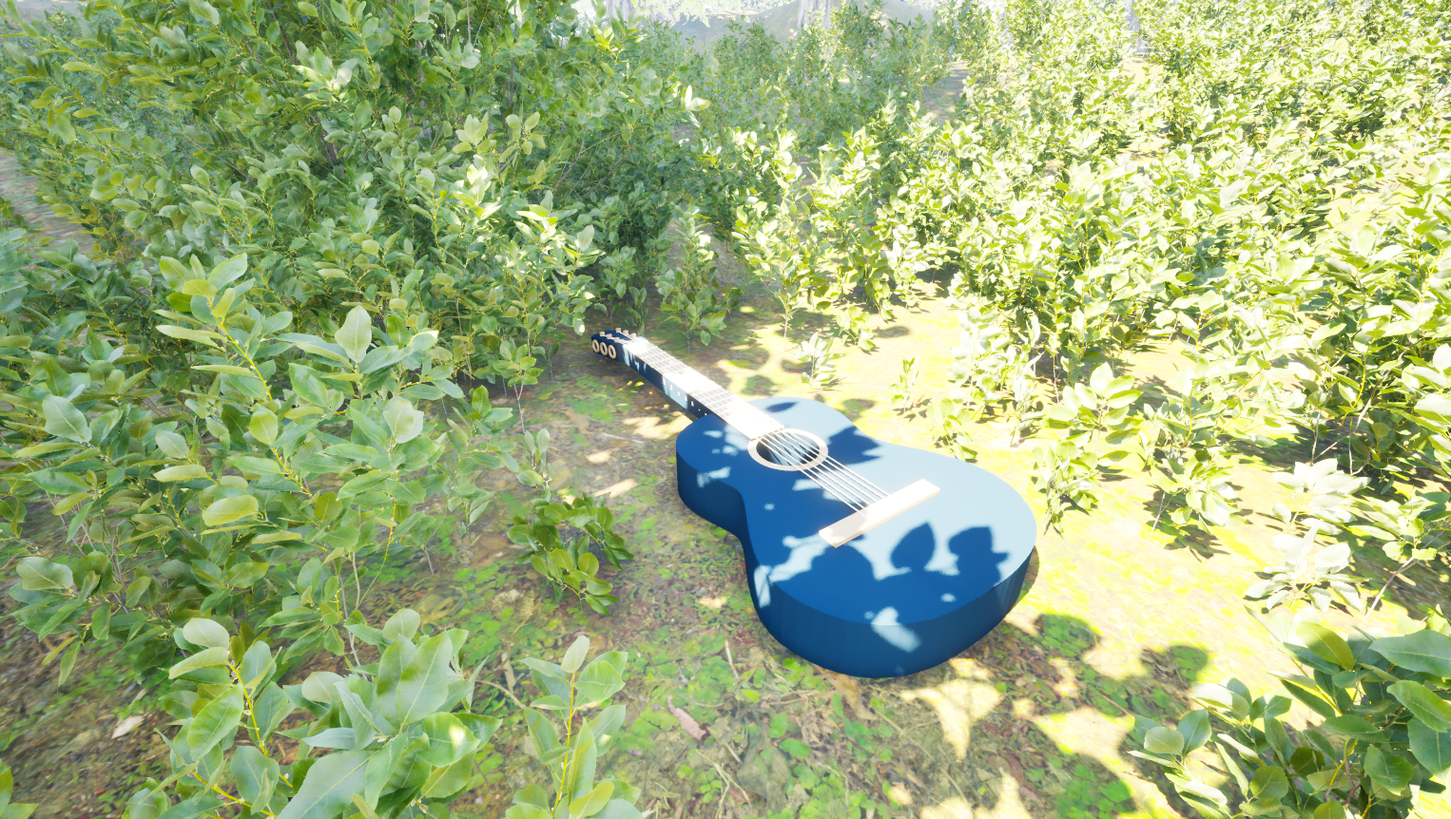Guitar: (515, 305, 1088, 730)
